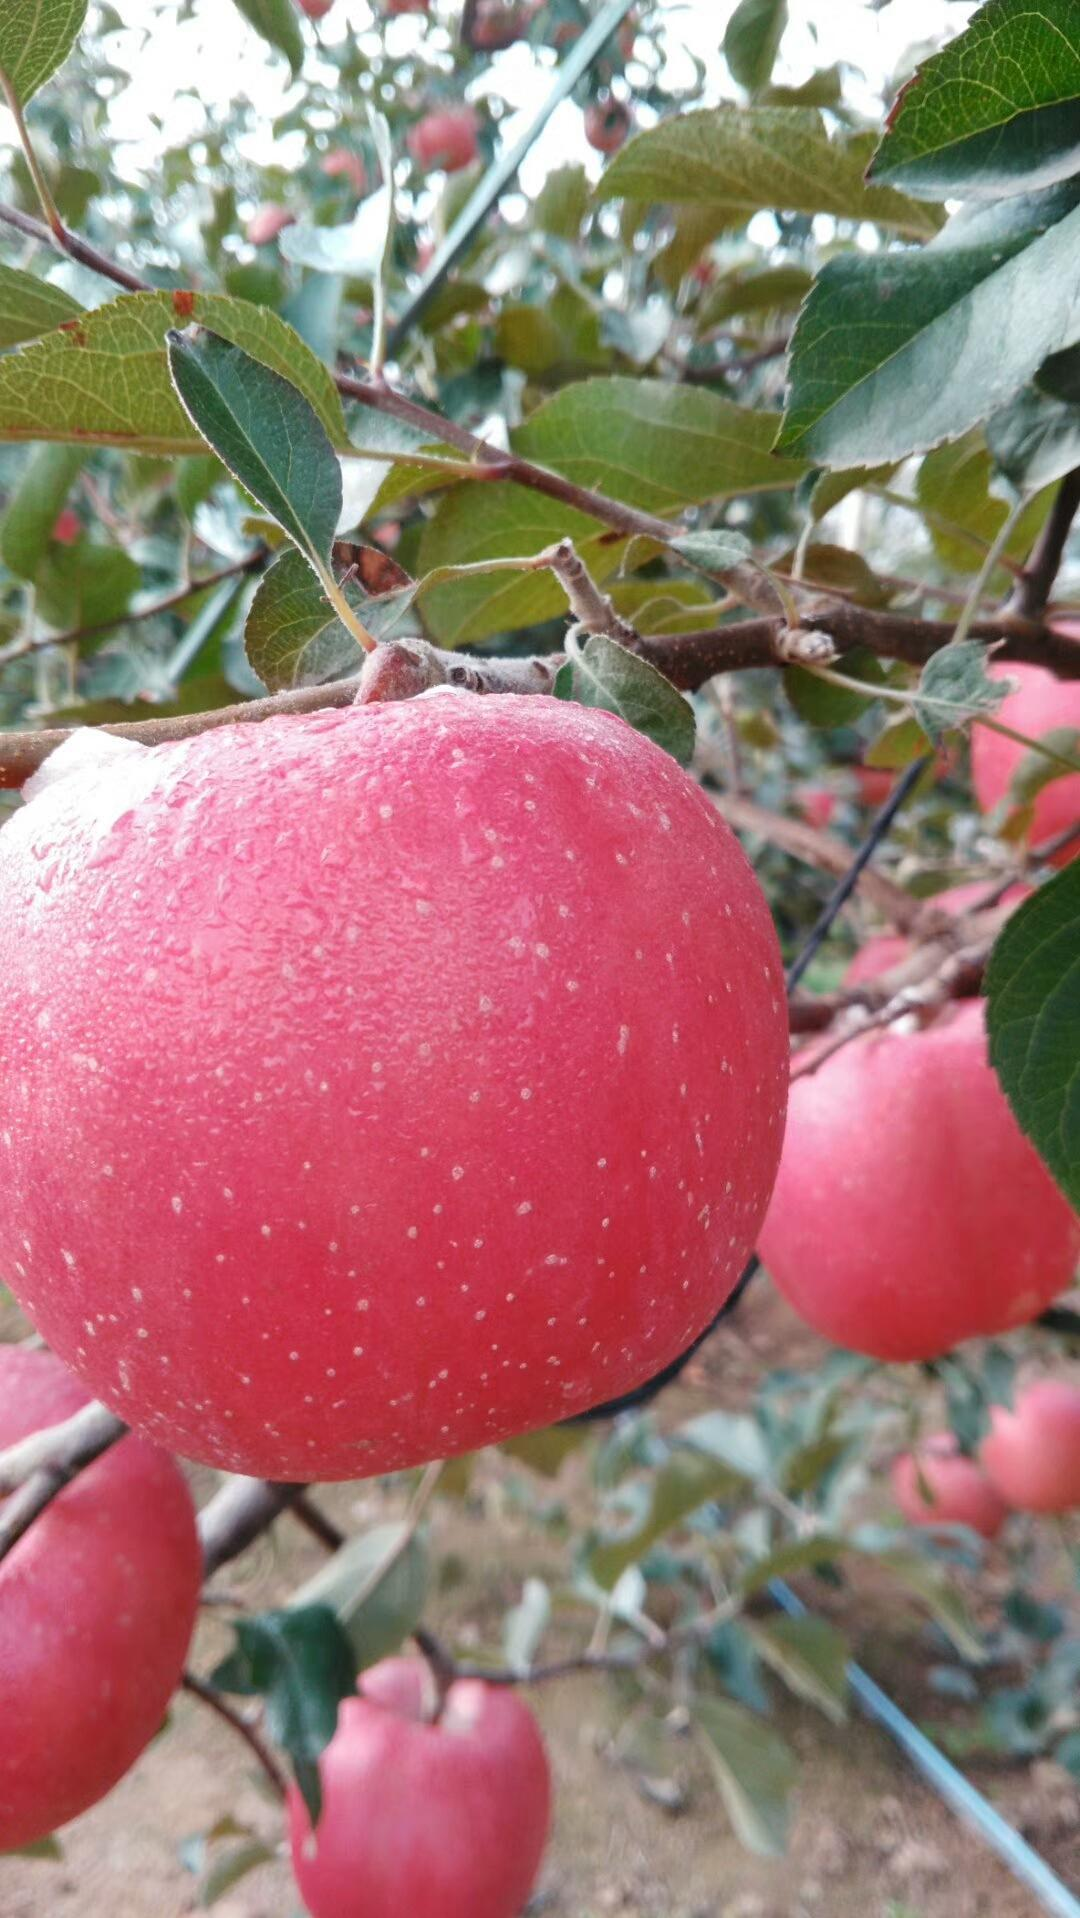apple: (1, 651, 778, 1446), (751, 999, 1077, 1367), (1, 1427, 198, 1853), (288, 1672, 556, 1914)
